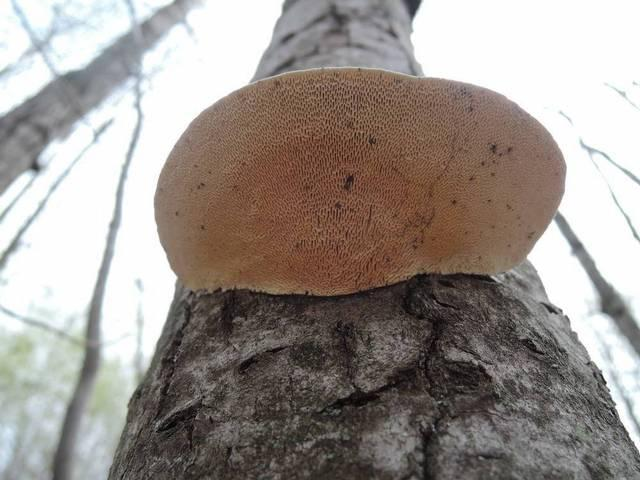poisonous_mushroom: (152, 64, 568, 297)
